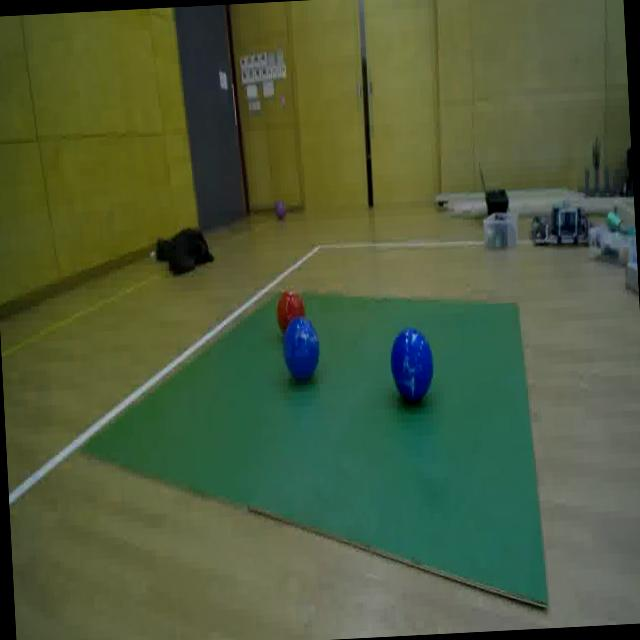blue_ball: (386, 321, 438, 410), (281, 316, 320, 384)
purple_ball: (272, 198, 288, 225)
red_ball: (272, 284, 309, 334)
